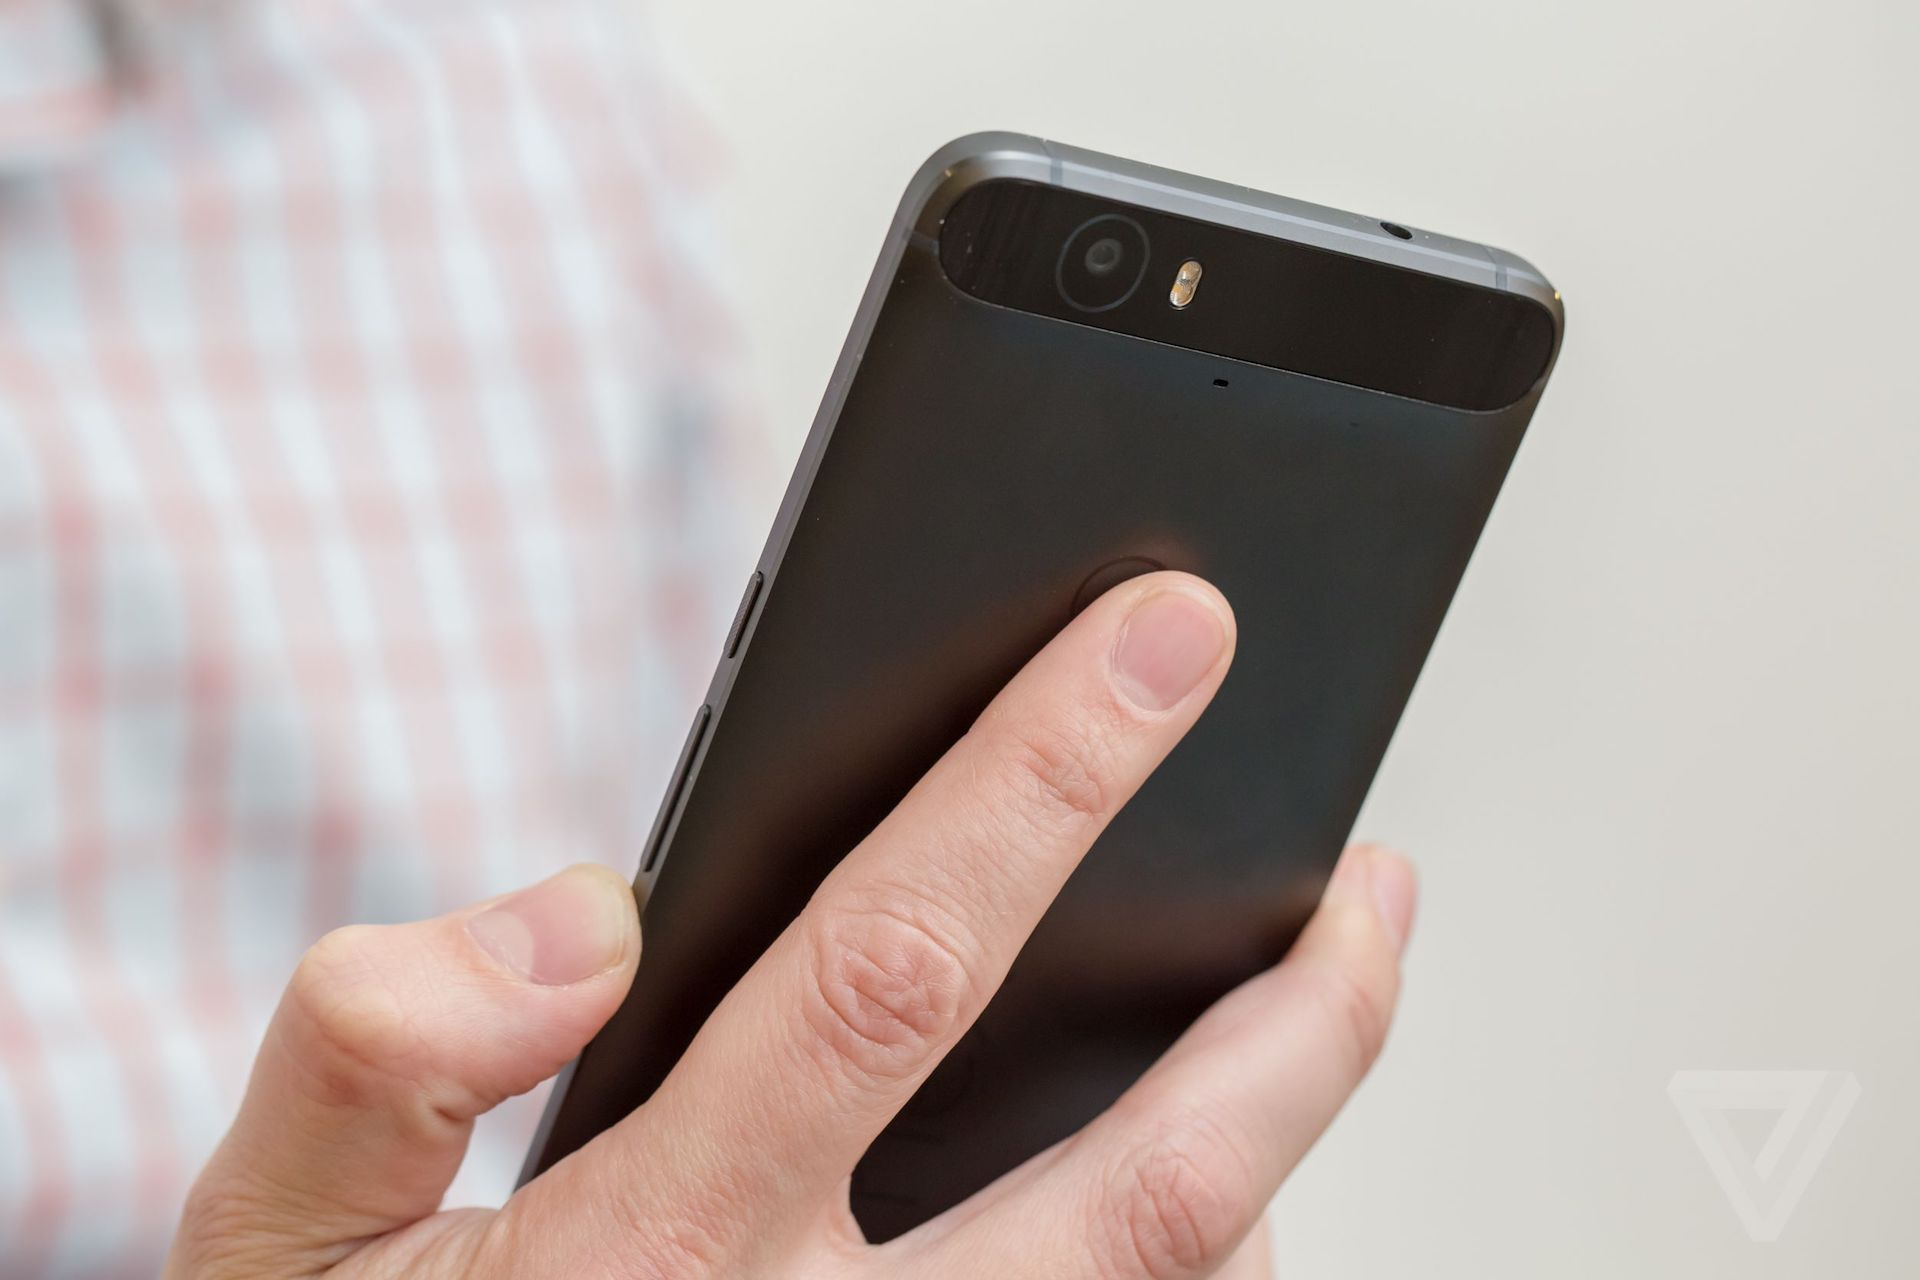smartphone: (506, 126, 1569, 1251)
